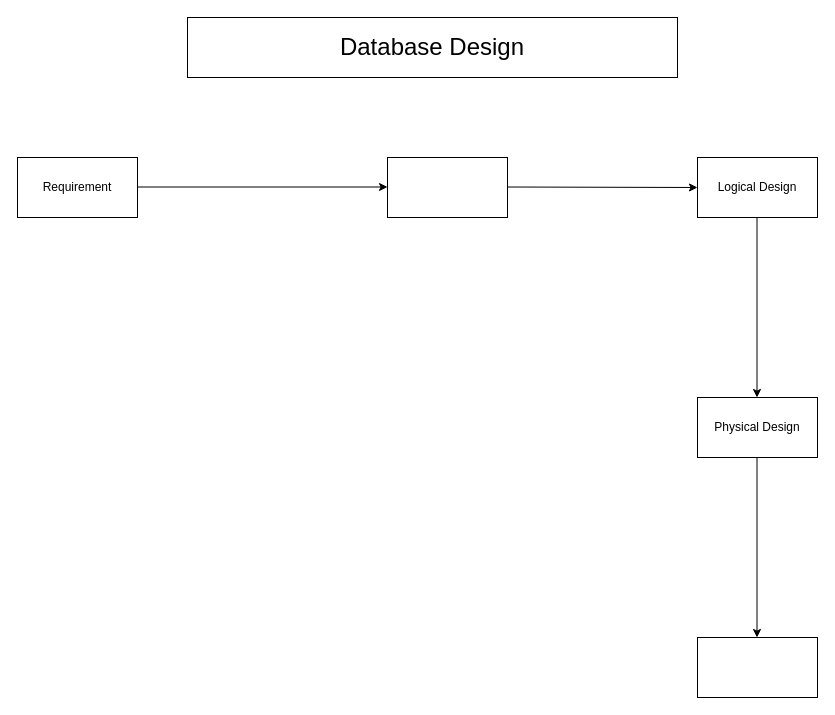
The diagram is 835 pixels wide and 715 high, and some of its shapes have lost their labels. The shapes that lost their labels are listed below. From the top down, each one's box as (x1, y1, x2, y2) in pixels, then its label:
(386, 156, 508, 218): Conceptual Design
(696, 636, 818, 698): Database Internal Schema
